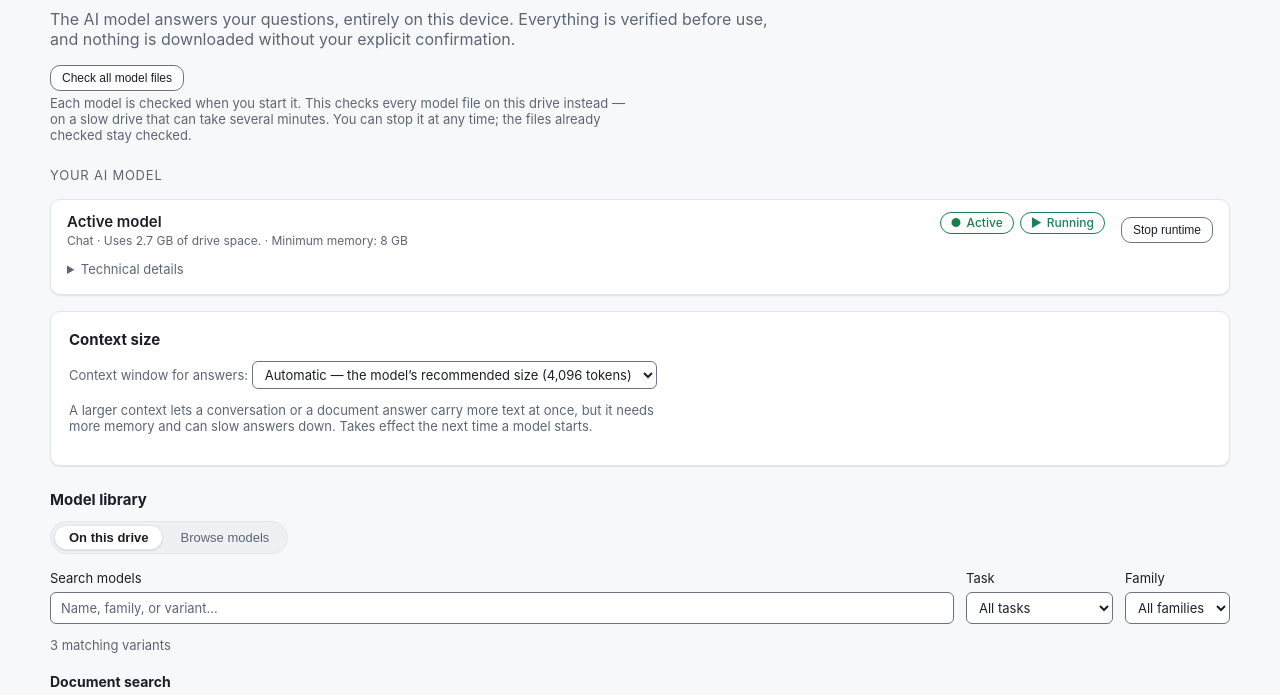
Test: ModelsScreen — search, tasks and model variants › combines task, family and case-insensitive search; reset restores results and keeps the active model pinned
This screenshot has width=1280, height=695.
Expected: the text "Active model" is shown, x1=67 y1=212 x2=162 y2=231
Select "Document search" in the dropdown labelled "Task" at x=1040, y=608, box x1=966 y1=592 x2=1113 y2=624
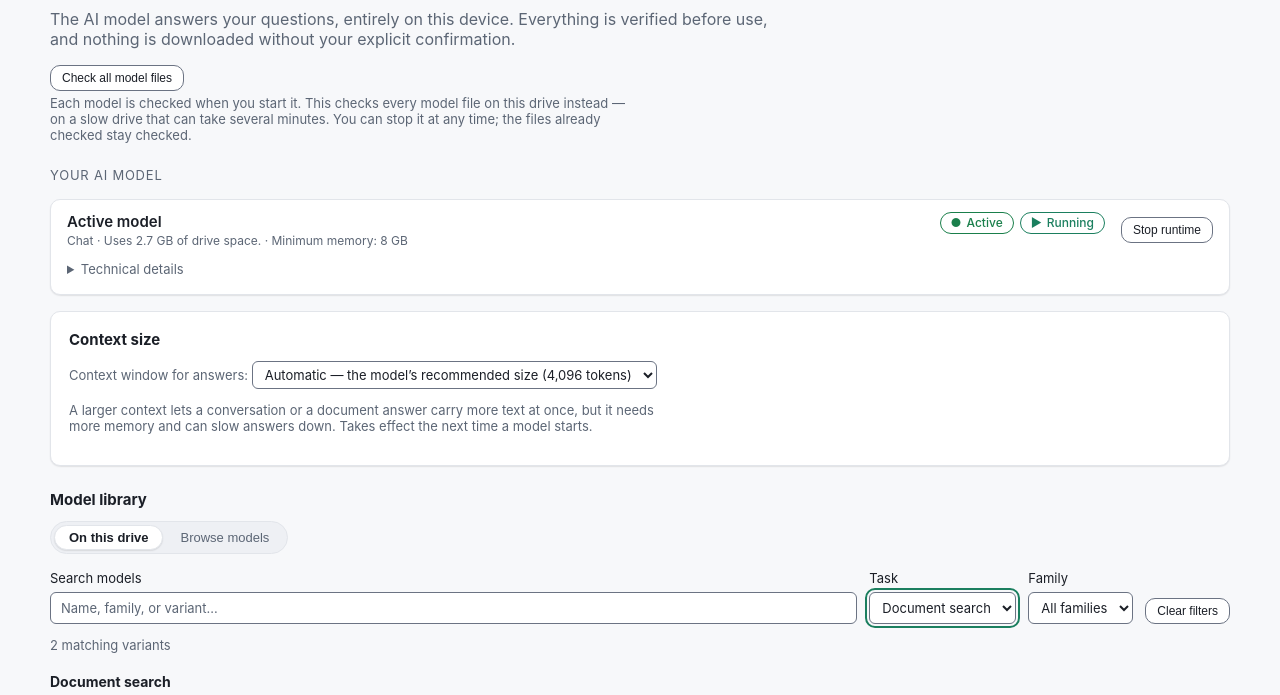
Select "bge" in the dropdown labelled "Family" at x=1081, y=608, box x1=1028 y1=592 x2=1133 y2=624
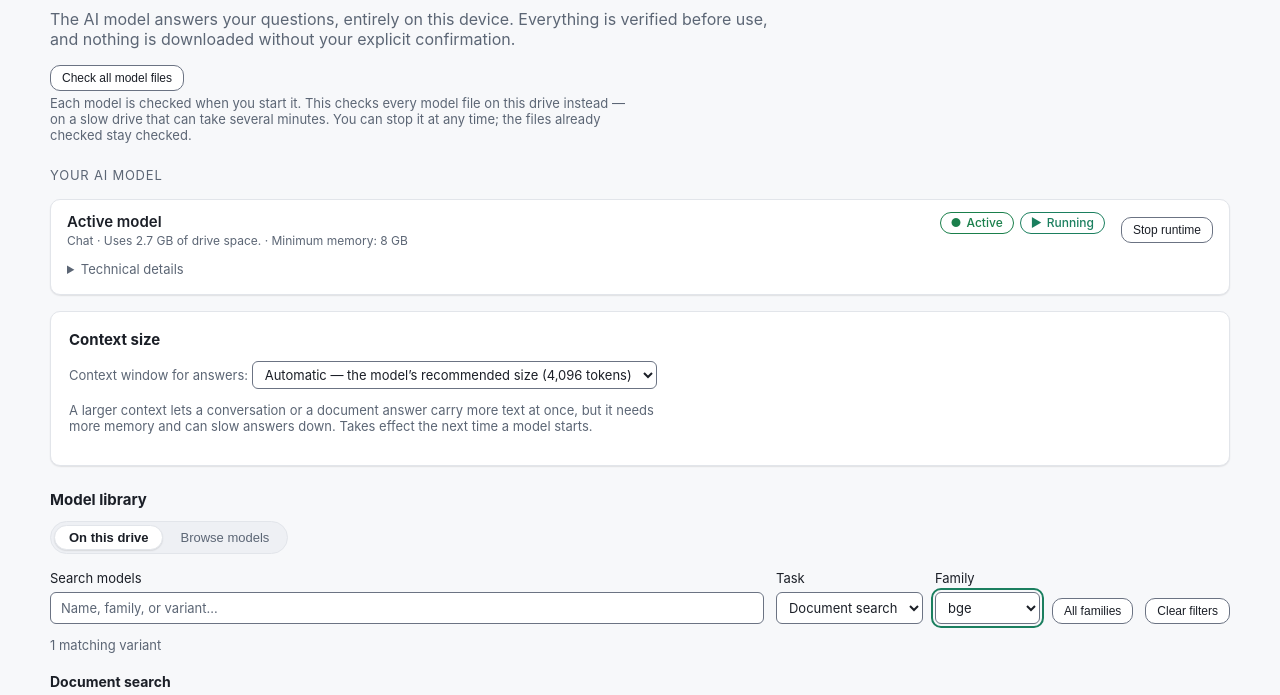
Type "RERANK" into the search field at x=407, y=608, box x1=50 y1=592 x2=764 y2=624
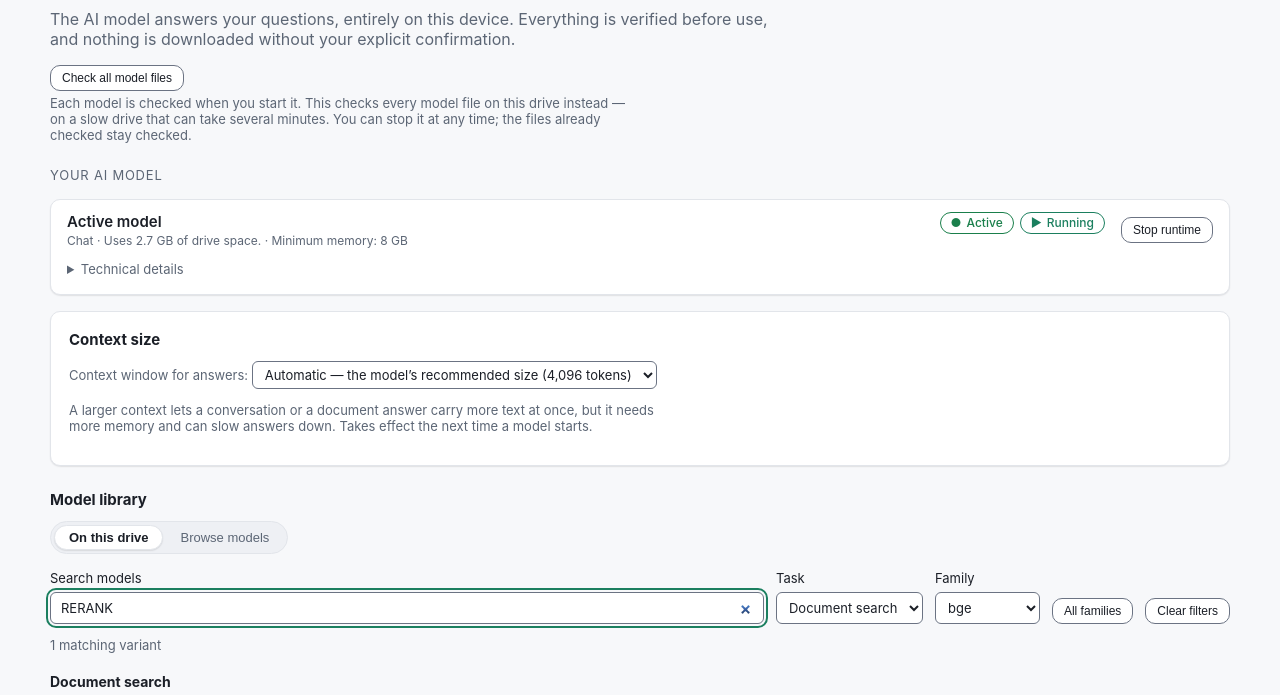
Expected: the text "Document embedder" is not shown
Type " xyz" into the search field at x=407, y=608, box x1=50 y1=592 x2=764 y2=624
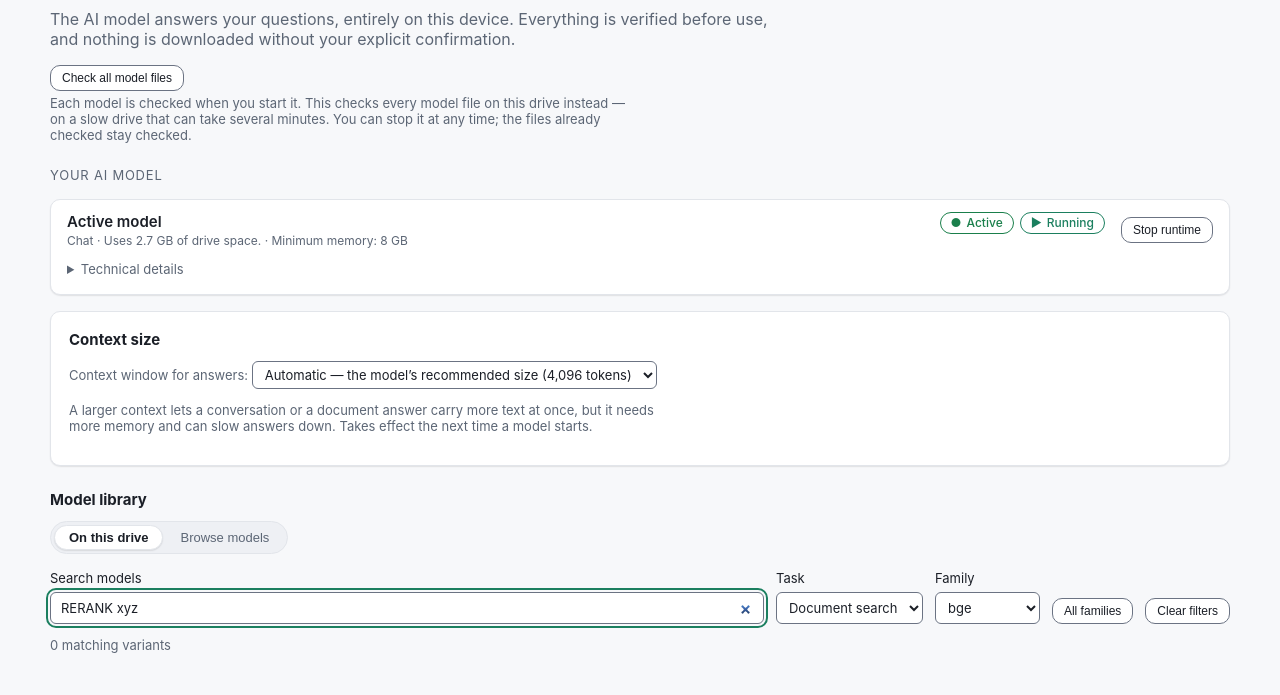
Expected: the text "Active model" is shown, x1=67 y1=212 x2=162 y2=231
Click the button "Clear filters" at x=1188, y=611, box x1=1145 y1=598 x2=1230 y2=624
(page scrolled)
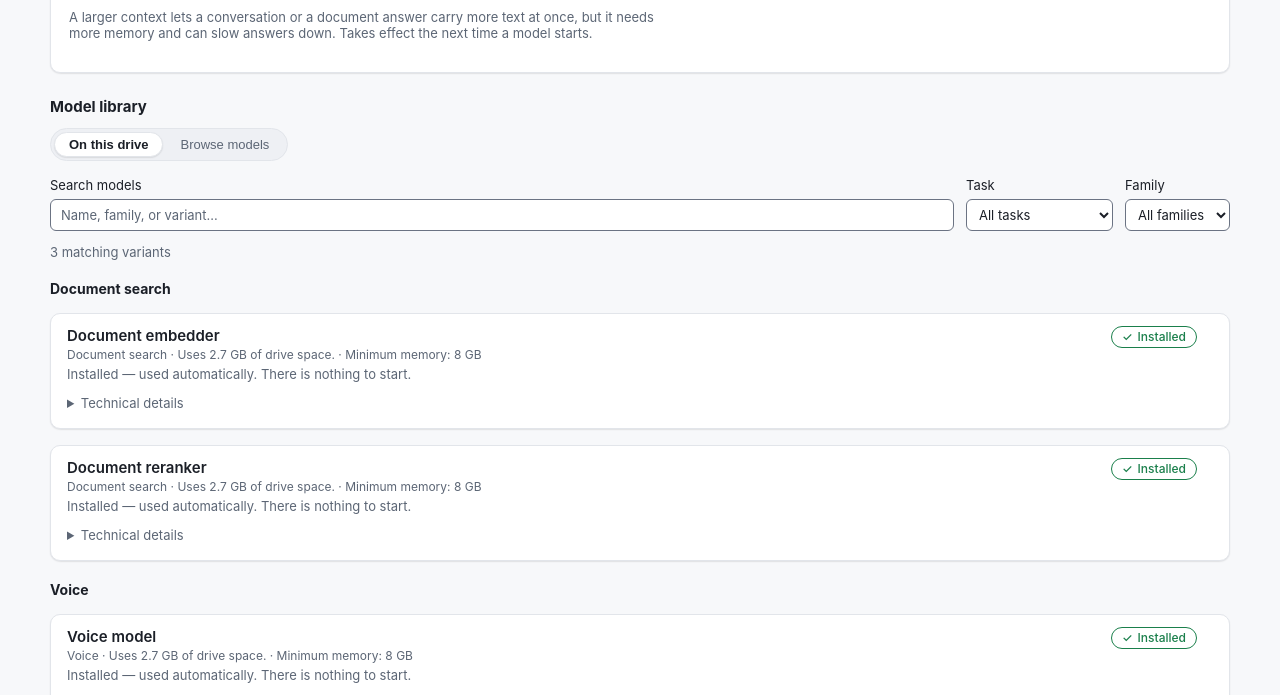
Now the text "Voice model" is shown, box x1=67 y1=627 x2=156 y2=646
Now the text "Document embedder" is shown, box x1=67 y1=326 x2=220 y2=345
